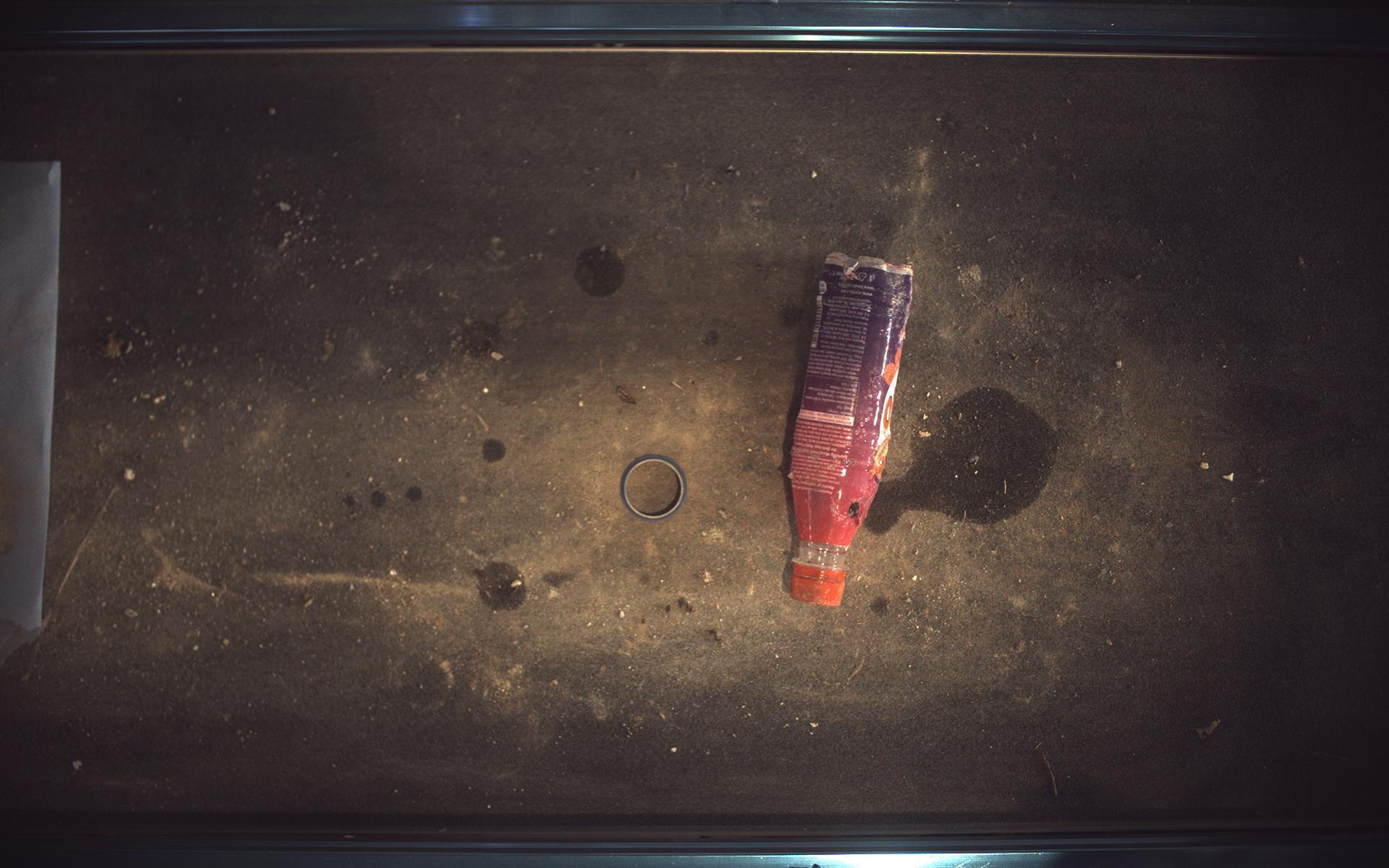general_w: (790, 252, 915, 607)
pipes: (621, 454, 689, 522)
